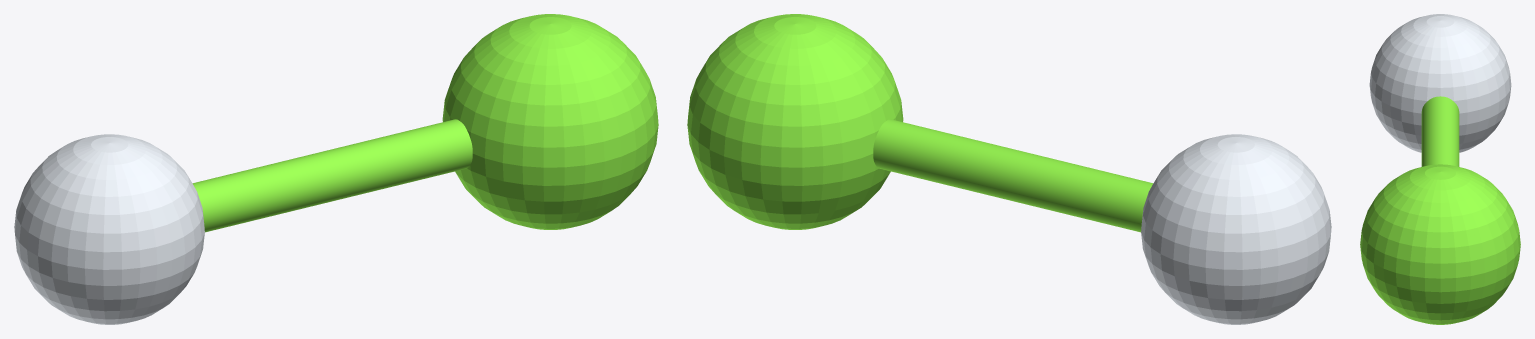
Rendered from hydrogen_fluoride.fbx.
3 views of the same model, side by side, from view 1: azimuth 30°, elevation 25°; view 2: azimuth 150°, elevation 25°; view 3: azimuth 270°, elevation 25° (orthographic). The views are drawn at different scales.
Visible parts, largest first — view 1: hydrogen_fluoride; view 2: hydrogen_fluoride; view 3: hydrogen_fluoride.
Part boxes in pixels (bbox=[...]): hydrogen_fluoride: bbox=[14, 14, 658, 324]; hydrogen_fluoride: bbox=[687, 14, 1331, 324]; hydrogen_fluoride: bbox=[1360, 14, 1520, 324].
Bounding box in the file's own units: 112 × 34 × 34.
